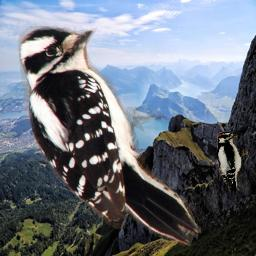Woodpecker: (18, 26, 201, 250), (217, 132, 248, 193)
